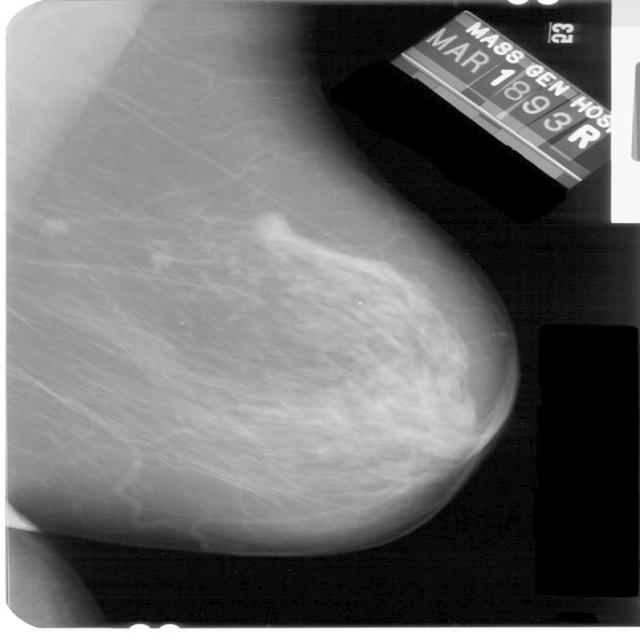tumour: (253, 209, 297, 244)
